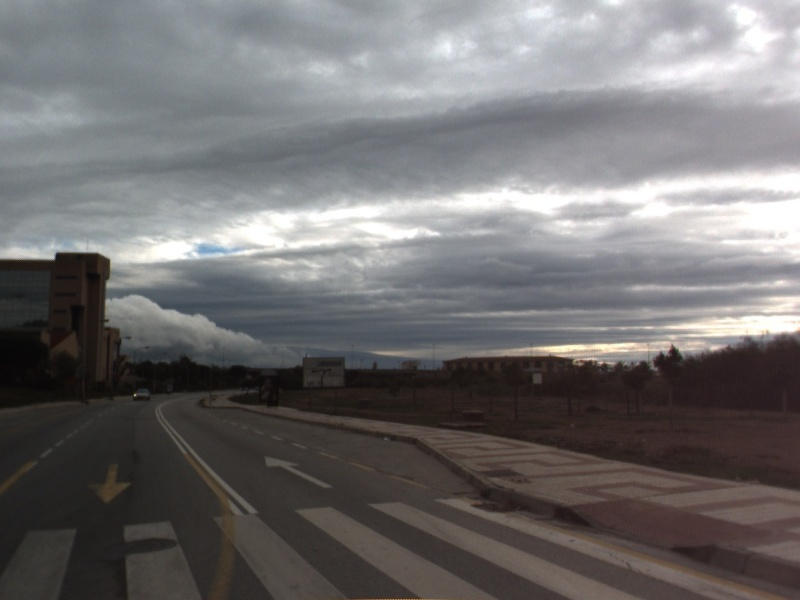STRAIGHT: (263, 454, 336, 490)
